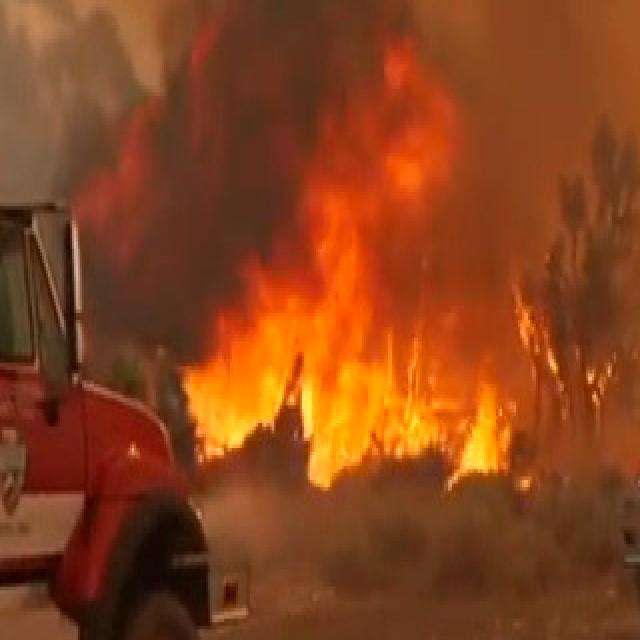fire: (188, 80, 497, 500)
